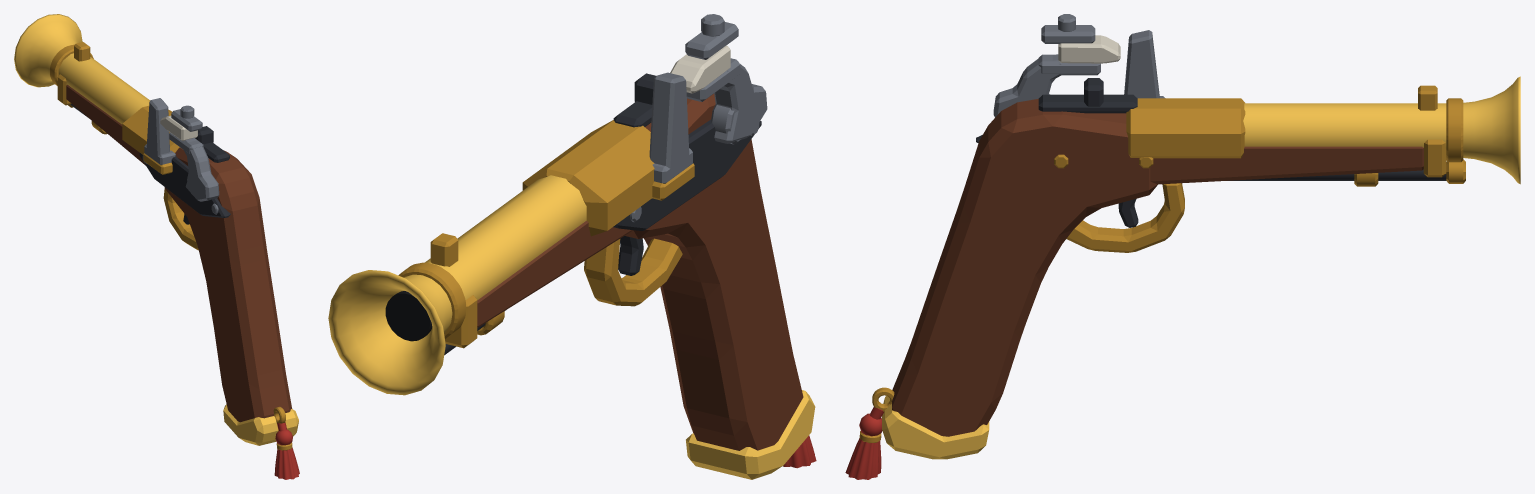
The model's file is w_revolver@revolver_flint.glb.
The picture shows the model from 3 angles, left to right: view 1: azimuth 30°, elevation 25°; view 2: azimuth 150°, elevation 25°; view 3: azimuth 270°, elevation 25°; orthographic projection. The views are drawn at different scales.
Parts seen in each view (by area): view 1: stock_wzA, barrel_wzA, hammer_wzN, lock_wzB, stock_wzN.001, lock_wzN.001, stock_wzN, barrel_wzB, tassel_wzN, barrel_wzN, body_wzB, hammer_wzN.001; view 2: stock_wzA, barrel_wzA, barrel_wzB, stock_wzN, hammer_wzN, lock_wzN.001, stock_wzN.001, lock_wzB, barrel_wzN, trim_wzN, hammer_wzN.001, body_wzB (+3 smaller); view 3: stock_wzA, barrel_wzA, barrel_wzB, stock_wzN, hammer_wzN, stock_wzN.001, body_wzB, lock_wzN.001, tassel_wzN, barrel_wzN, stock_wzN.002, hammer_wzN.001.
Boxes of the visible parts, x1,y1,x2,y2 form: stock_wzA: [66, 84, 292, 422]; barrel_wzA: [14, 14, 149, 124]; hammer_wzN: [169, 105, 219, 201]; lock_wzB: [139, 153, 230, 217]; stock_wzN.001: [223, 404, 298, 445]; lock_wzN.001: [142, 98, 218, 214]; stock_wzN: [57, 74, 285, 423]; barrel_wzB: [122, 105, 179, 154]; tassel_wzN: [274, 422, 299, 479]; barrel_wzN: [50, 42, 93, 85]; body_wzB: [195, 126, 229, 162]; hammer_wzN.001: [160, 115, 197, 140]; stock_wzA: [477, 94, 803, 450]; barrel_wzA: [328, 175, 586, 395]; barrel_wzB: [522, 120, 654, 236]; stock_wzN: [445, 238, 682, 348]; hammer_wzN: [685, 14, 767, 144]; lock_wzN.001: [630, 72, 759, 222]; stock_wzN.001: [686, 390, 815, 479]; lock_wzB: [613, 119, 761, 230]; barrel_wzN: [398, 233, 465, 338]; trim_wzN: [385, 291, 432, 341]; hammer_wzN.001: [670, 45, 730, 93]; body_wzB: [613, 73, 655, 127]; stock_wzA: [892, 99, 1423, 436]; barrel_wzA: [1243, 76, 1520, 184]; barrel_wzB: [1126, 98, 1245, 158]; stock_wzN: [872, 139, 1465, 411]; hammer_wzN: [993, 14, 1100, 117]; stock_wzN.001: [882, 396, 989, 459]; body_wzB: [1038, 78, 1137, 113]; lock_wzN.001: [1124, 30, 1165, 98]; tassel_wzN: [845, 407, 883, 479]; barrel_wzN: [1418, 85, 1463, 162]; stock_wzN.002: [1118, 169, 1446, 227]; hammer_wzN.001: [1058, 35, 1120, 63].
Bounding box in the file's own units: 0.077 × 0.342 × 0.477.
